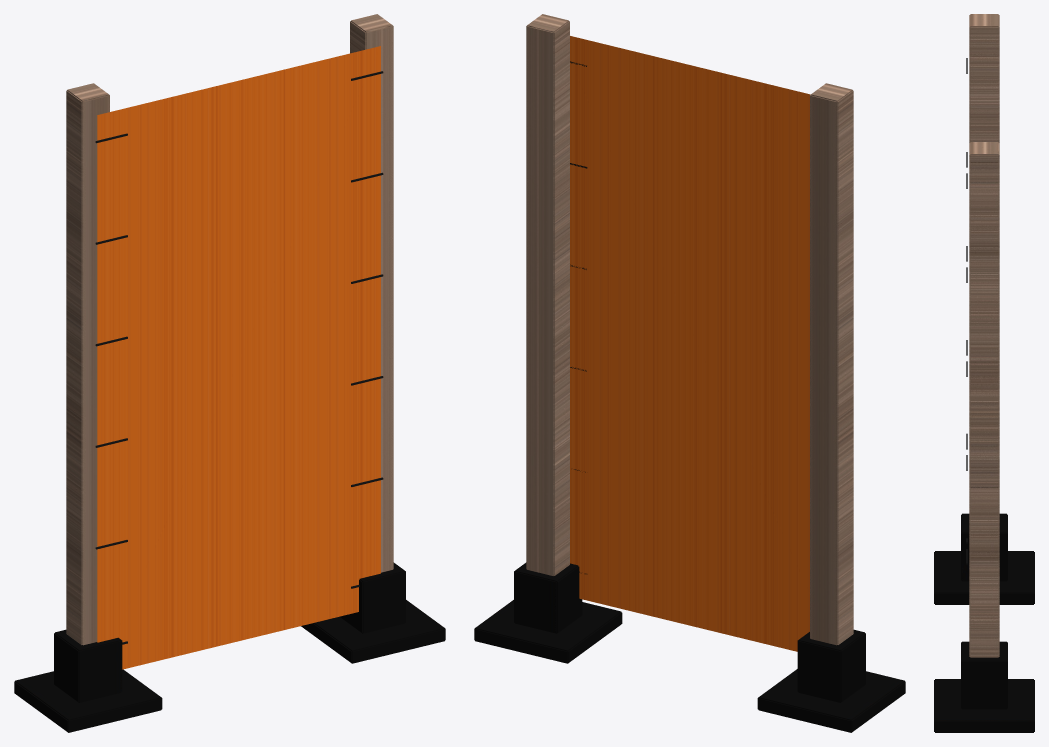
The model's file is obj_mesh_wall_short.glb.
3 views of the same model, side by side, from view 1: azimuth 30°, elevation 25°; view 2: azimuth 150°, elevation 25°; view 3: azimuth 270°, elevation 25° (orthographic). The views are drawn at different scales.
Visible parts, largest first — view 1: mesh, mesh_wall_short_body; view 2: mesh, mesh_wall_short_body; view 3: mesh_wall_short_body.
Boxes of the visible parts, box(x1,y1,x2,y2) form: mesh: box(97, 46, 380, 669); mesh_wall_short_body: box(14, 14, 445, 732); mesh: box(570, 36, 810, 651); mesh_wall_short_body: box(474, 14, 905, 732); mesh_wall_short_body: box(934, 14, 1034, 732).
Size of the model in its own units: 1.2 by 1.85 by 0.3.
Materials: 3 (2 with a texture image).
